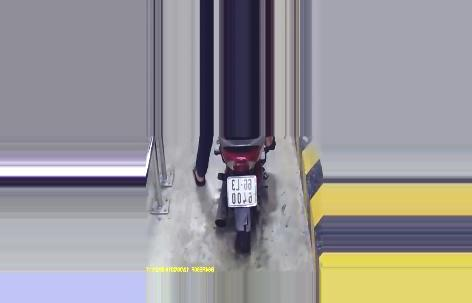License_Plate: (225, 173, 262, 208)
